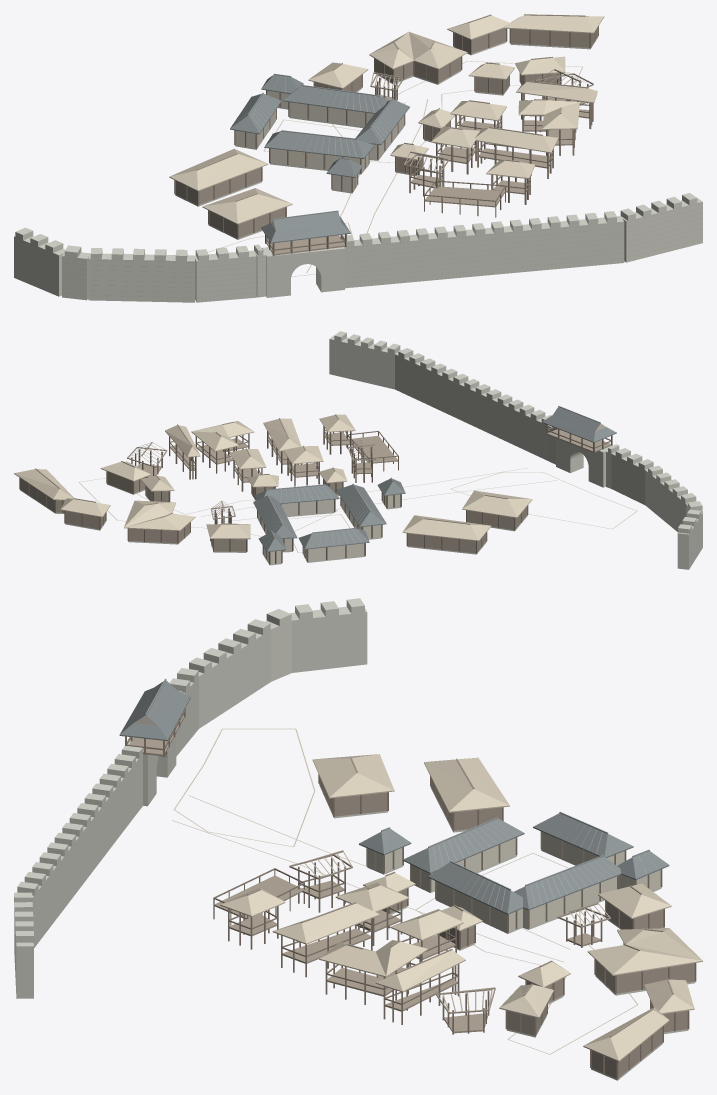
File: set2.glb
3 renders of one model, top to bottom at view 1: azimuth 30°, elevation 25°; view 2: azimuth 150°, elevation 25°; view 3: azimuth 270°, elevation 25°, orthographic. The views are drawn at different scales.
Visible parts, largest first — view 1: Set 2 Ansi fortress · VWorld plan / video elevations; view 2: Set 2 Ansi fortress · VWorld plan / video elevations; view 3: Set 2 Ansi fortress · VWorld plan / video elevations.
Part boxes in pixels (box(x1,y1,x2,y2)): Set 2 Ansi fortress · VWorld plan / video elevations: box(14, 14, 702, 302); Set 2 Ansi fortress · VWorld plan / video elevations: box(14, 331, 702, 569); Set 2 Ansi fortress · VWorld plan / video elevations: box(14, 598, 702, 1080).
Size of the model in its own units: 115 by 11.41 by 78.56.
